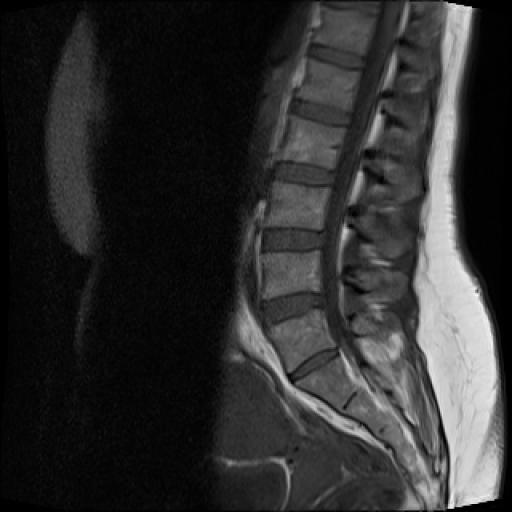L1: (296, 56, 361, 112)
L2: (278, 114, 346, 170)
L3: (266, 184, 328, 230)
L4: (263, 252, 321, 298)
L5: (271, 308, 335, 372)
S1: (294, 356, 357, 410)
